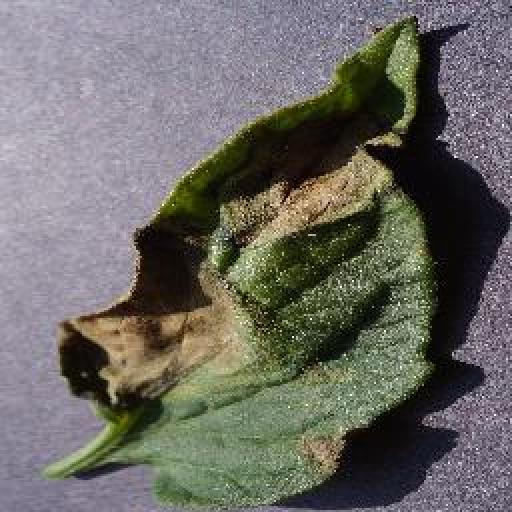Late Blight: (56, 12, 433, 512)
